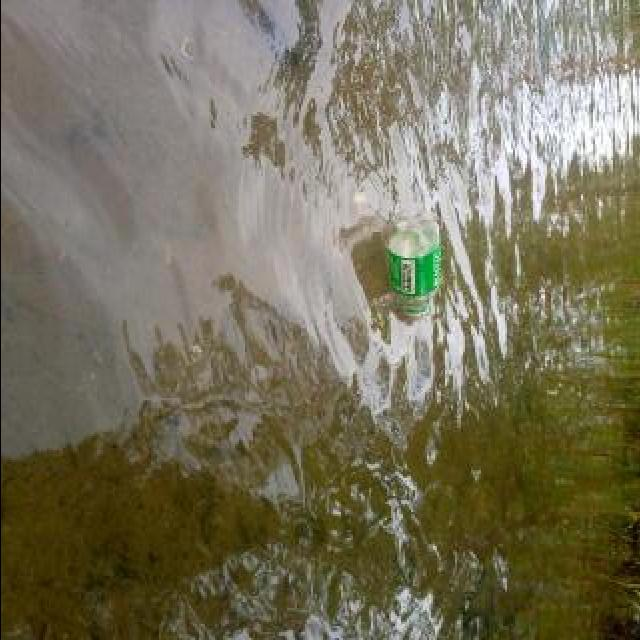Bottle: (378, 199, 444, 333)
